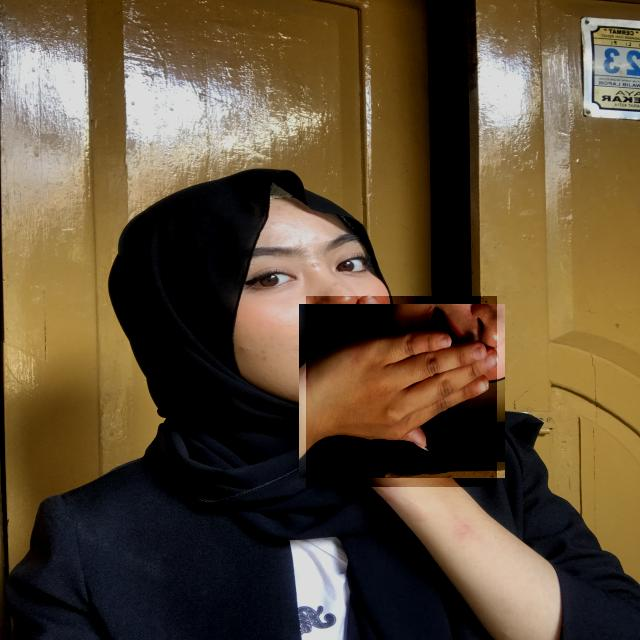ngantuk: (306, 296, 497, 487)
